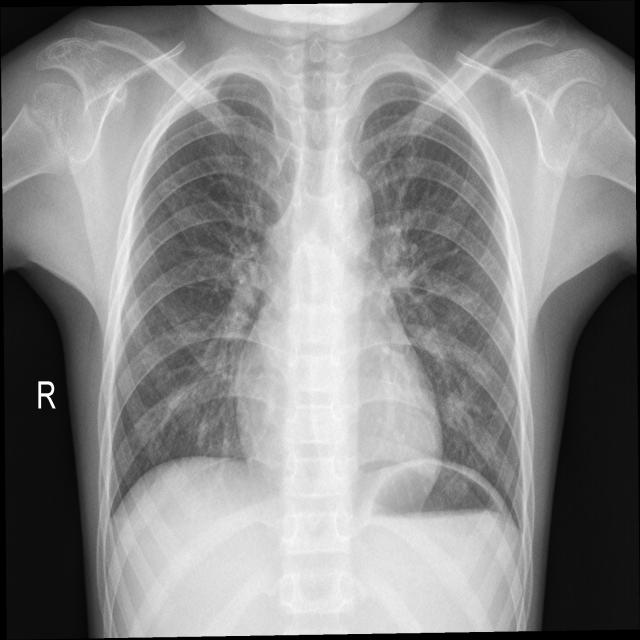no-pneumonia: (353, 57, 529, 525), (112, 72, 296, 509)
